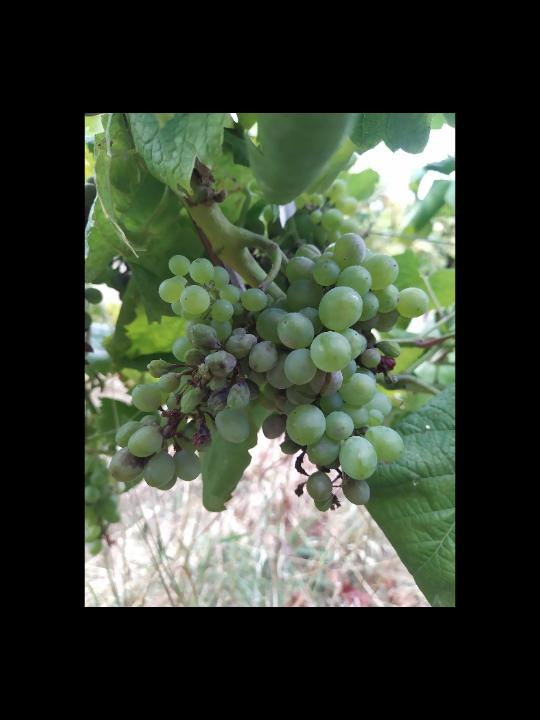grape: (105, 232, 431, 515)
